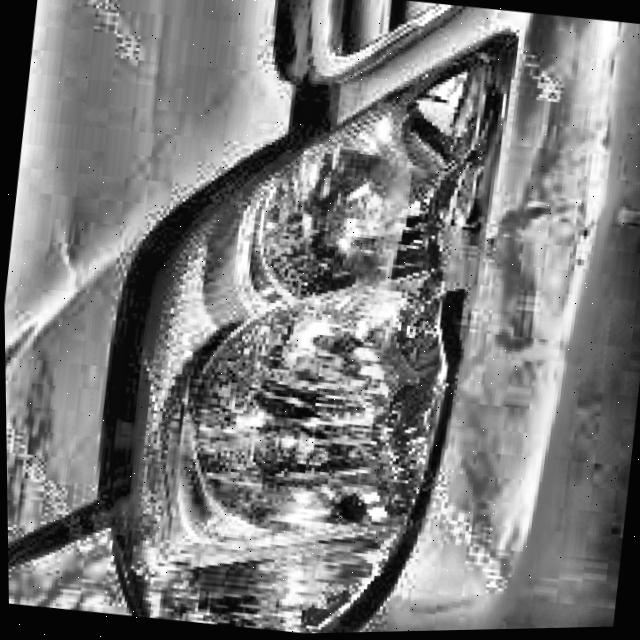head_lamp: (137, 88, 508, 633)
